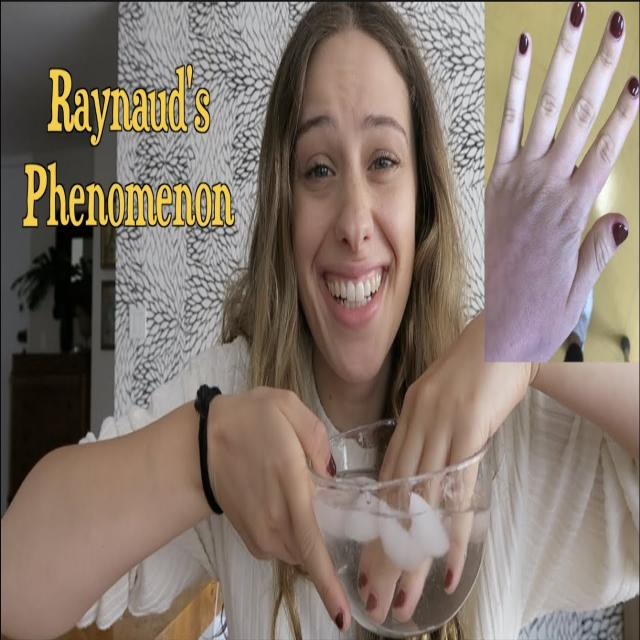raynauds: (490, 61, 614, 222)
